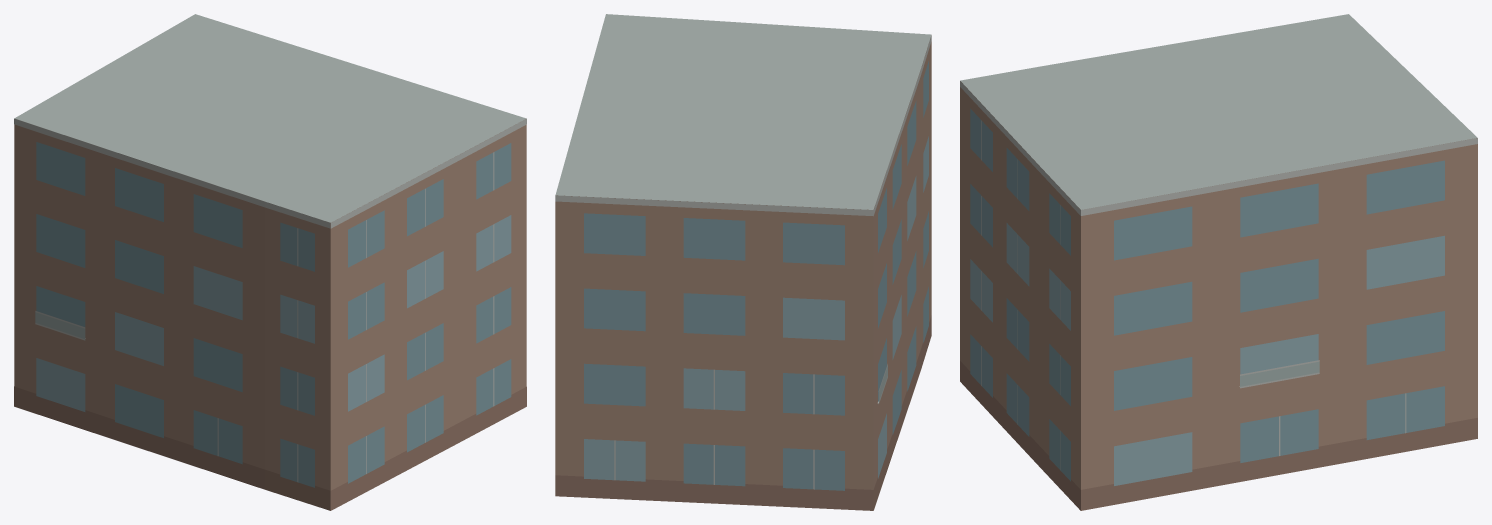
File: survey-upis-32593818.glb
3 renders of one model, left to right at view 1: azimuth 30°, elevation 25°; view 2: azimuth 150°, elevation 25°; view 3: azimuth 270°, elevation 25°, orthographic. The views are drawn at different scales.
Parts seen in each view (by area): view 1: survey-upis-32593818.tmp; view 2: survey-upis-32593818.tmp; view 3: survey-upis-32593818.tmp.
Boxes of the visible parts, x1,y1,x2,y2 form: survey-upis-32593818.tmp: [14, 14, 526, 510]; survey-upis-32593818.tmp: [555, 14, 931, 510]; survey-upis-32593818.tmp: [960, 14, 1477, 510].
Bounding box in the file's own units: 16.63 × 11.9 × 18.57.
